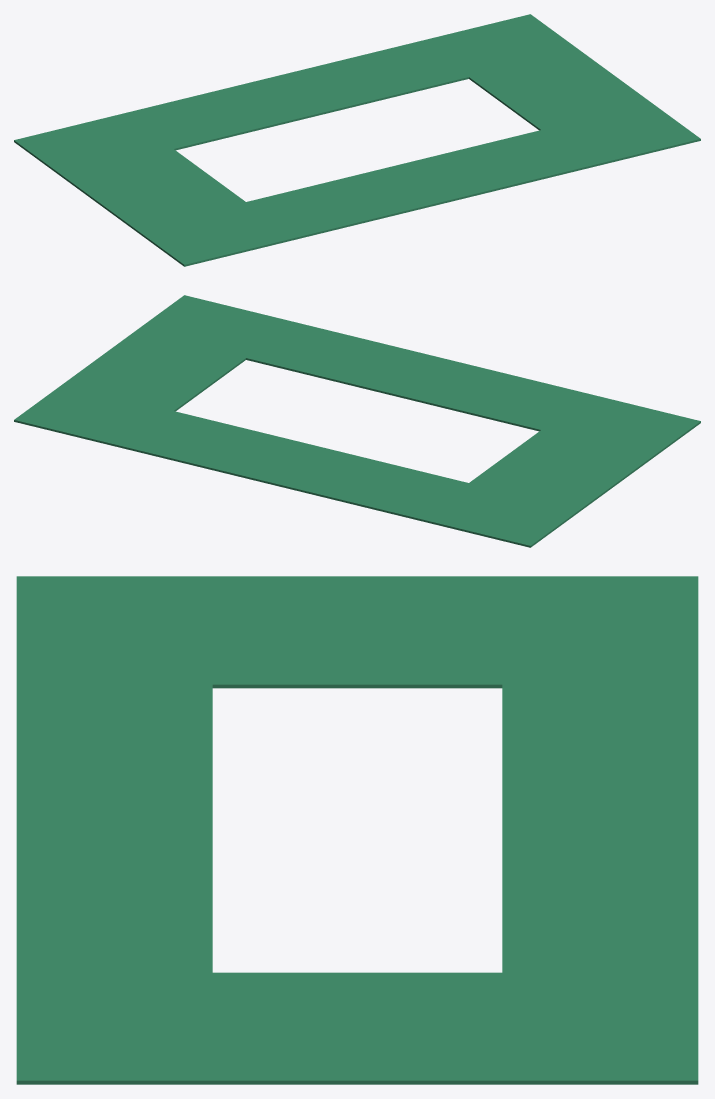
The model's file is top-ground-outset.glb.
3 renders of one model, top to bottom at view 1: azimuth 30°, elevation 25°; view 2: azimuth 150°, elevation 25°; view 3: azimuth 270°, elevation 25°, orthographic. The views are drawn at different scales.
Parts seen in each view (by area): view 1: Mesh_Mesh_head_geo.001_lambert2SG.006; view 2: Mesh_Mesh_head_geo.001_lambert2SG.006; view 3: Mesh_Mesh_head_geo.001_lambert2SG.006.
Part boxes in pixels (x1,y1,x2,y2): Mesh_Mesh_head_geo.001_lambert2SG.006: (14,14,700,266); Mesh_Mesh_head_geo.001_lambert2SG.006: (14,295,700,547); Mesh_Mesh_head_geo.001_lambert2SG.006: (16,576,698,1084).
Size of the model in its own units: 14 by 0.05 by 8.
